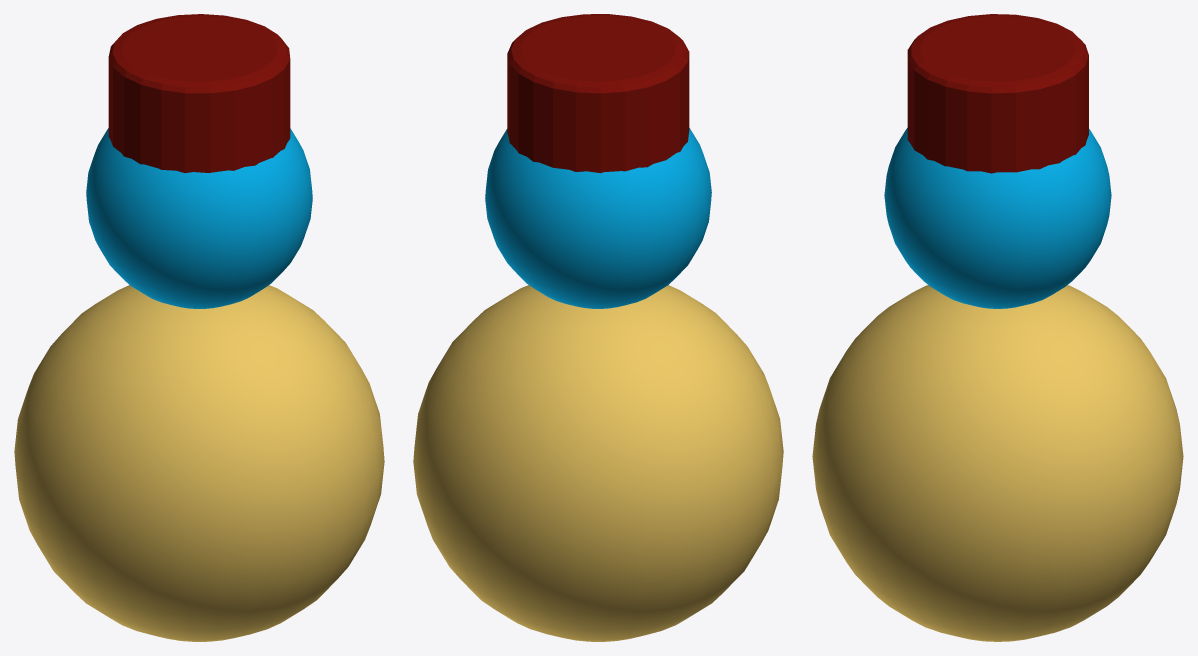
Rendered from cika 5.fbx.
3 views of the same model, side by side, from view 1: azimuth 30°, elevation 25°; view 2: azimuth 150°, elevation 25°; view 3: azimuth 270°, elevation 25° (orthographic).
Visible parts, largest first — view 1: Sphere.006; view 2: Sphere.006; view 3: Sphere.006.
Part boxes in pixels (x1,y1,x2,y2): Sphere.006: (14, 14, 384, 641); Sphere.006: (413, 14, 783, 641); Sphere.006: (812, 14, 1183, 641).
Bounding box in the file's own units: 183 × 314 × 183.
